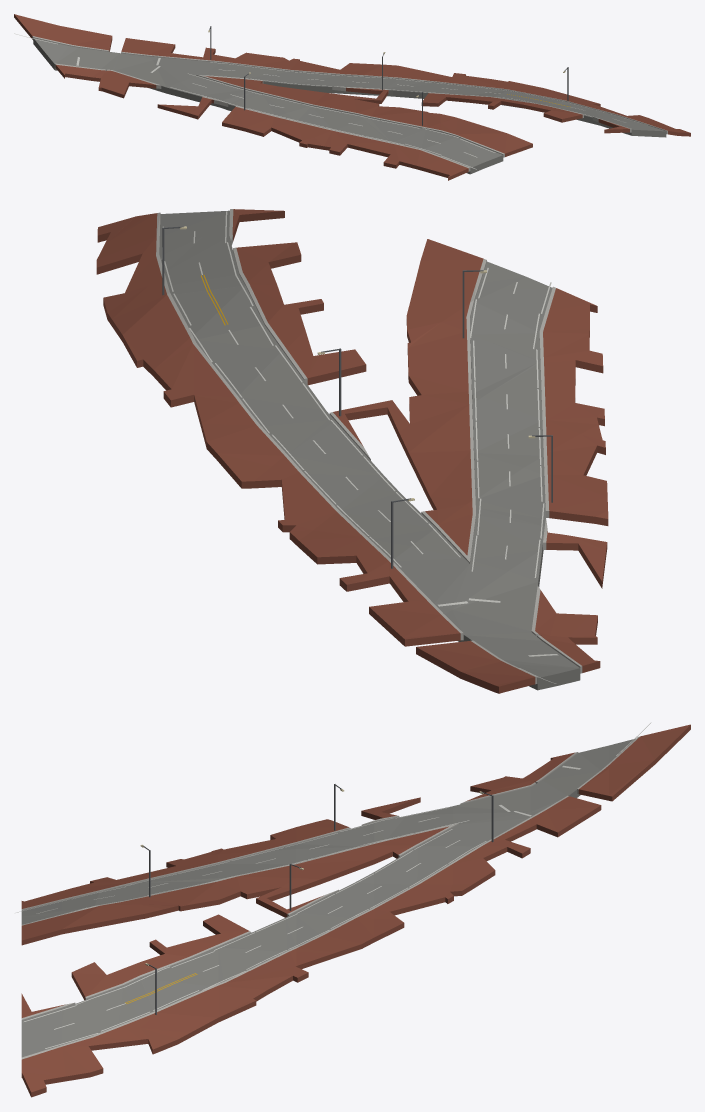
File: 17-109466-59483.0a5ddb84.glb
3 renders of one model, top to bottom at view 1: azimuth 30°, elevation 25°; view 2: azimuth 150°, elevation 25°; view 3: azimuth 270°, elevation 25°, orthographic. The views are drawn at different scales.
Bounding box in the file's own units: 92.79 × 13.36 × 86.65.
